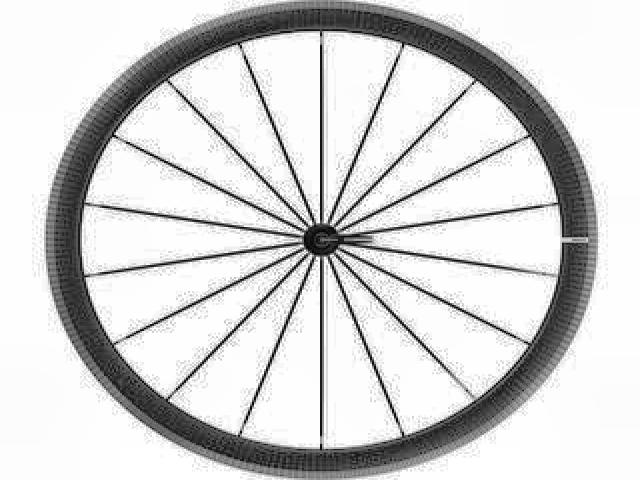wheel: (40, 0, 604, 480)
